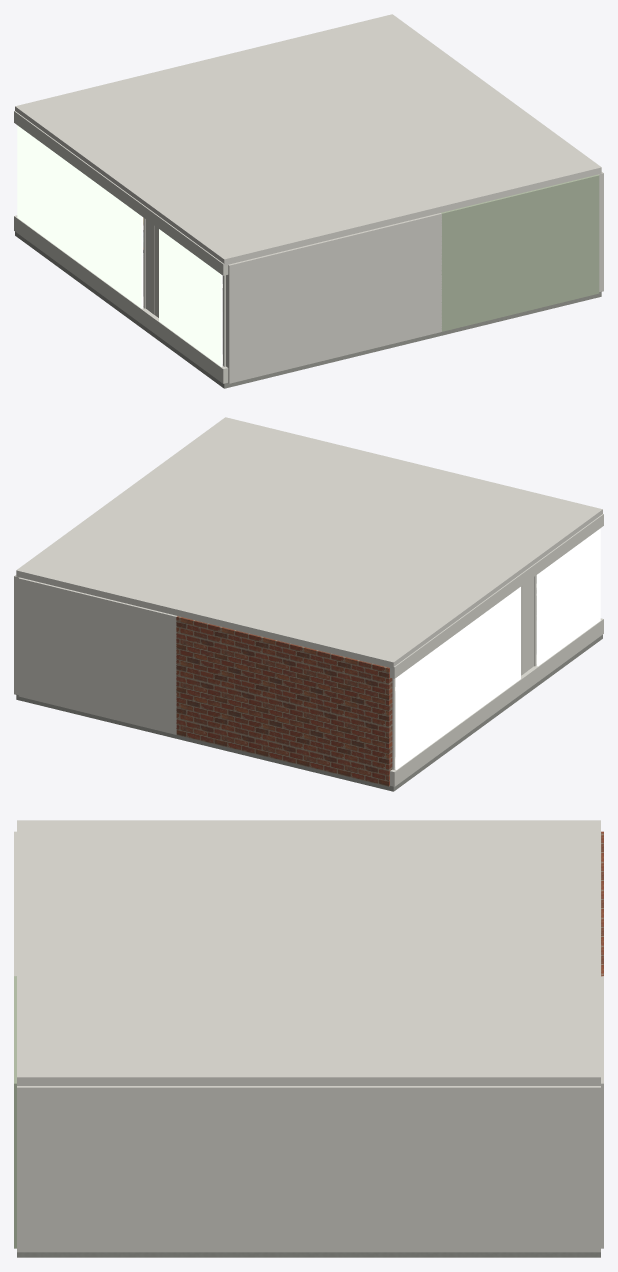
File: room-jurmala.glb
The picture shows the model from 3 angles, top to bottom: view 1: azimuth 30°, elevation 25°; view 2: azimuth 150°, elevation 25°; view 3: azimuth 270°, elevation 25°; orthographic projection. The views are drawn at different scales.
Visible parts, largest first — view 1: ROOM_Jurmala_Blender; view 2: ROOM_Jurmala_Blender; view 3: ROOM_Jurmala_Blender.
Part boxes in pixels (left/top/right/bottom): ROOM_Jurmala_Blender: left=14, top=14, right=603, bottom=388; ROOM_Jurmala_Blender: left=14, top=417, right=603, bottom=791; ROOM_Jurmala_Blender: left=14, top=820, right=603, bottom=1257.
Bounding box in the file's own units: 10.29 × 3.34 × 9.9.
30 materials, 4 textured.
